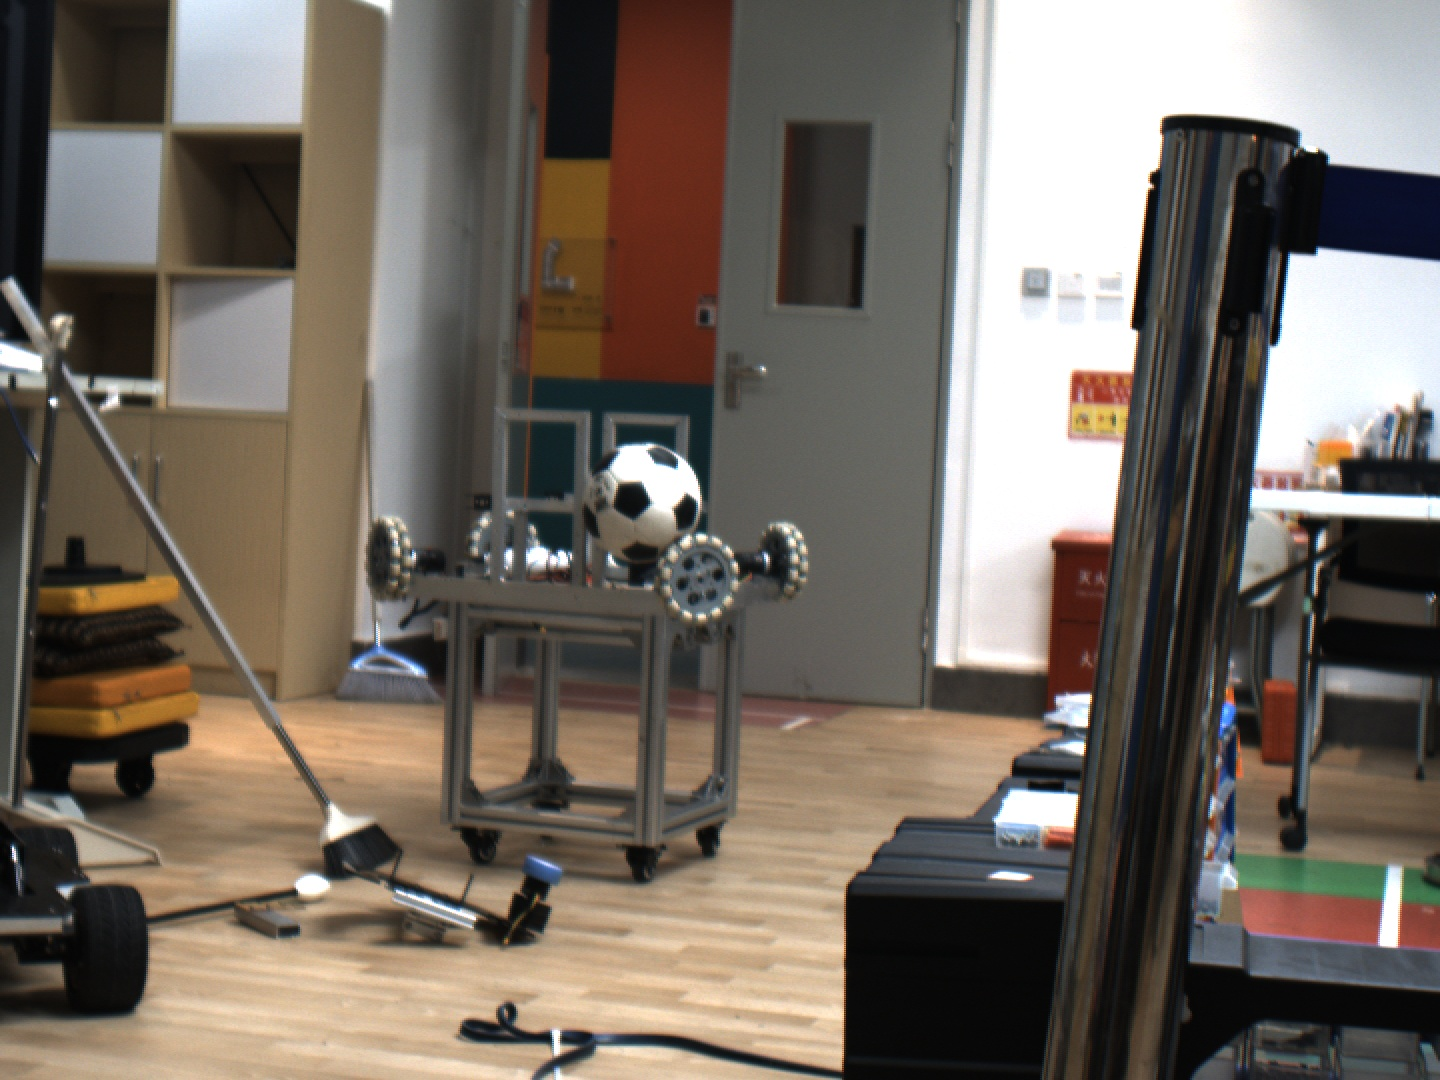ball: (565, 425, 729, 575)
